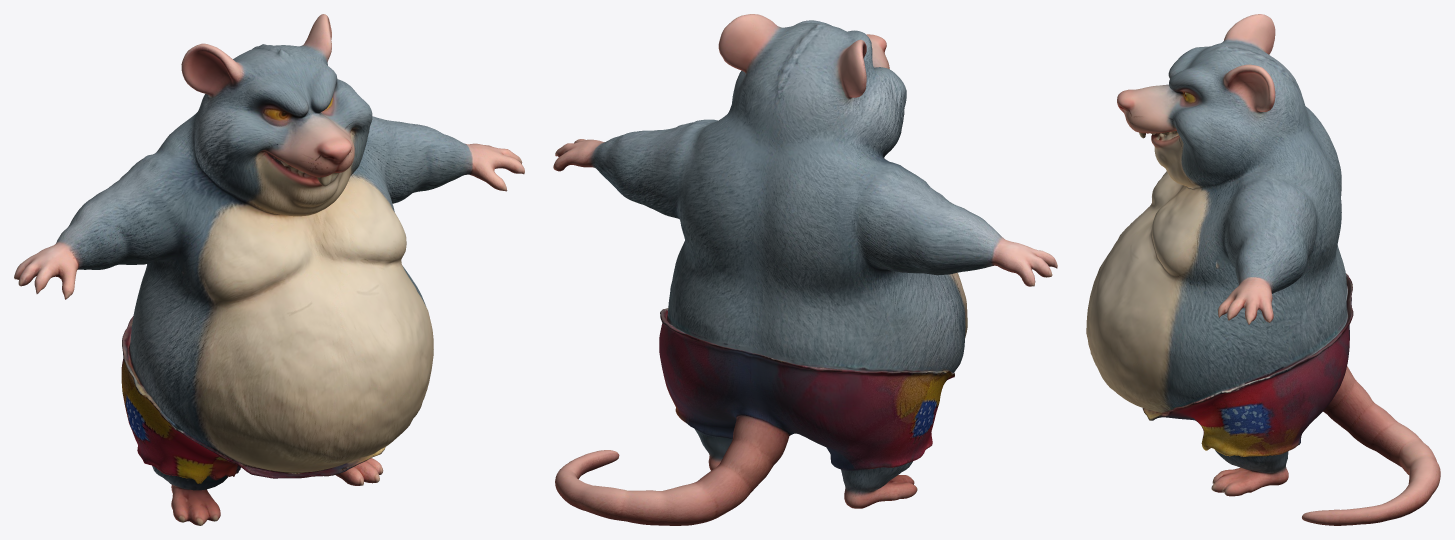
Rendered from tikus_rakus.glb.
3 renders of one model, left to right at view 1: azimuth 30°, elevation 25°; view 2: azimuth 150°, elevation 25°; view 3: azimuth 270°, elevation 25°, orthographic. The views are drawn at different scales.
Parts seen in each view (by area): view 1: tripo_node_1fd66285-53bb-4743-97db-15bac6a7db08; view 2: tripo_node_1fd66285-53bb-4743-97db-15bac6a7db08; view 3: tripo_node_1fd66285-53bb-4743-97db-15bac6a7db08.
Boxes of the visible parts, box(x1,y1,x2,y2) form: tripo_node_1fd66285-53bb-4743-97db-15bac6a7db08: box(14, 14, 524, 525); tripo_node_1fd66285-53bb-4743-97db-15bac6a7db08: box(553, 14, 1057, 525); tripo_node_1fd66285-53bb-4743-97db-15bac6a7db08: box(1086, 14, 1440, 525).
Bounding box in the file's own units: 0.9919 × 0.8641 × 0.6711.
Materials: 1 (1 with a texture image).
